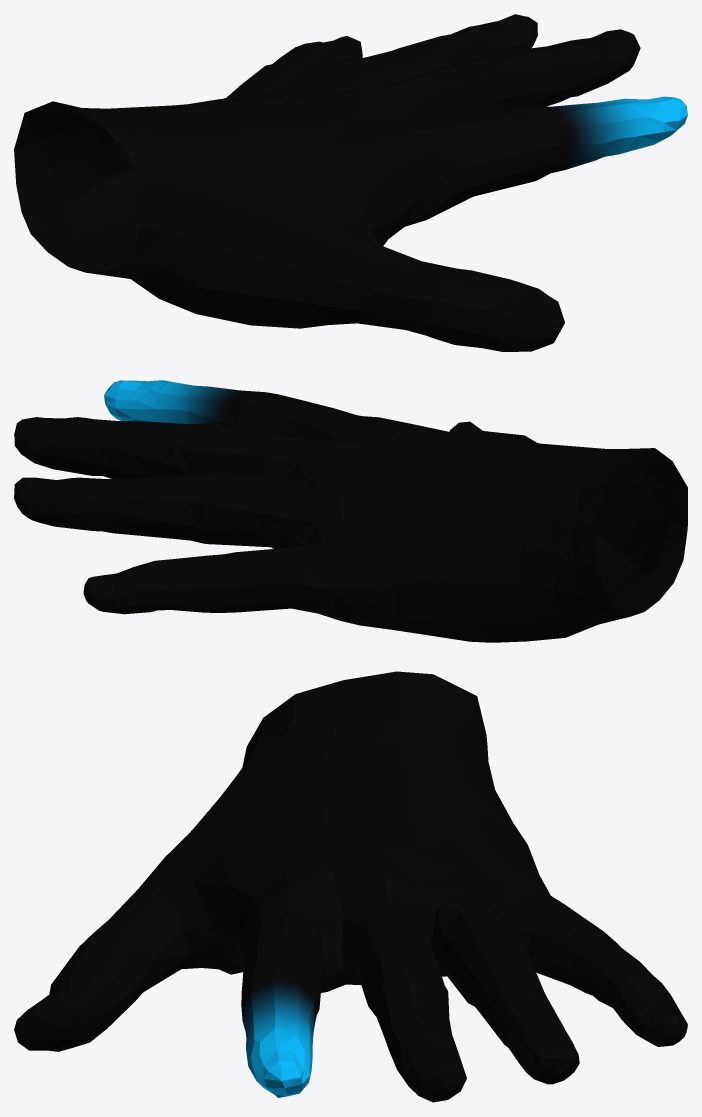
Rendered from out_texture.fbx.
3 renders of one model, top to bottom at view 1: azimuth 30°, elevation 25°; view 2: azimuth 150°, elevation 25°; view 3: azimuth 270°, elevation 25°, orthographic. The views are drawn at different scales.
Visible parts, largest first — view 1: Mesh; view 2: Mesh; view 3: Mesh.
Part boxes in pixels (left/top/right/bottom): Mesh: left=14, top=14, right=687, bottom=351; Mesh: left=14, top=380, right=687, bottom=642; Mesh: left=14, top=671, right=687, bottom=1102.
Size of the model in its own units: 0.193 by 0.0613 by 0.1677.
Materials: 1 (1 with a texture image).
